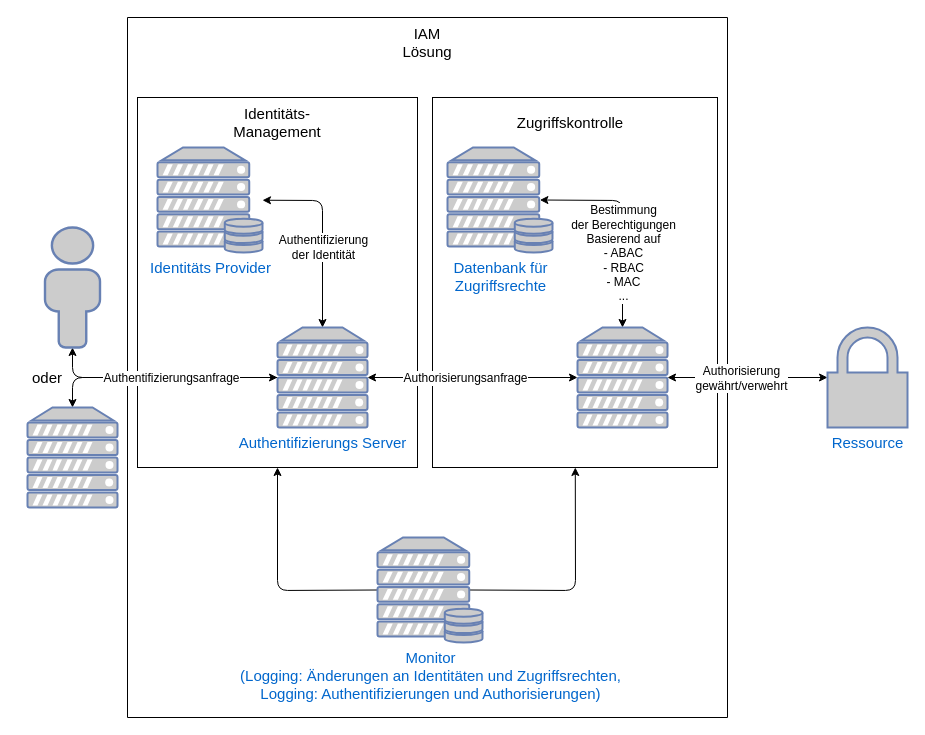
This 925x735 diagram has some shape labels left out. Here are the shapes that lost their labels. From the top down, the box of each, then its label:
(44, 226, 100, 348): Person
(576, 326, 668, 428): Authorisierungs Server
(26, 406, 118, 508): System
